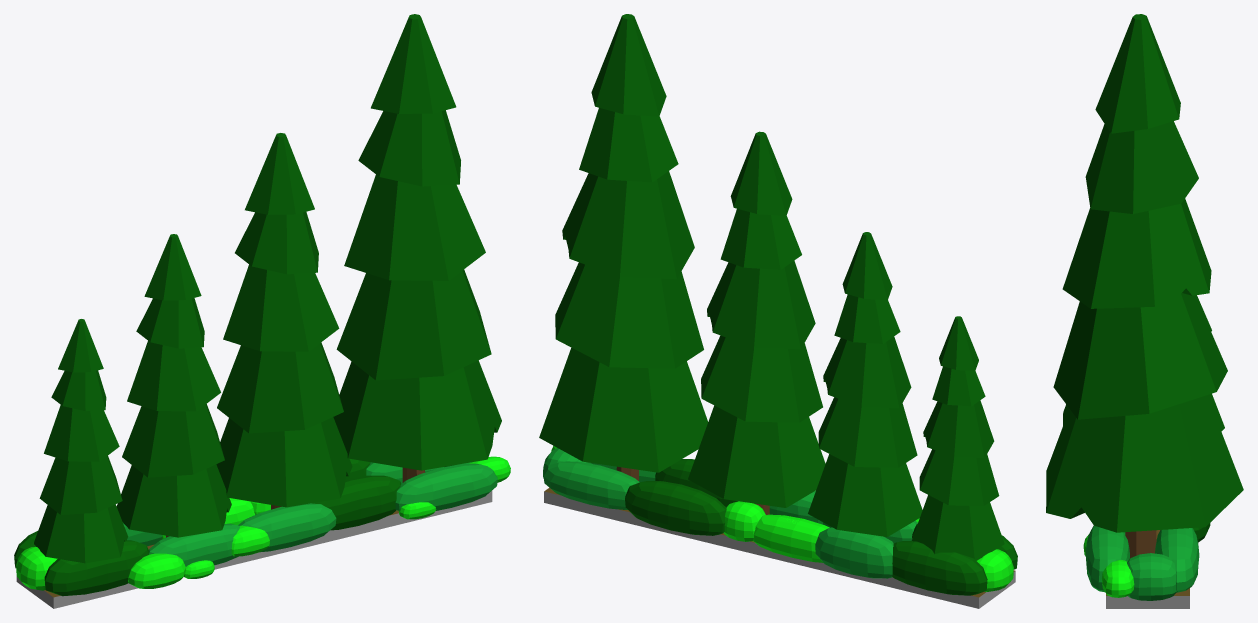
The model's file is GrassAndTree.glb.
The picture shows the model from 3 angles, left to right: view 1: azimuth 30°, elevation 25°; view 2: azimuth 150°, elevation 25°; view 3: azimuth 270°, elevation 25°; orthographic projection. The views are drawn at different scales.
Visible parts, largest first — view 1: Grass-Tree4; view 2: Grass-Tree4; view 3: Grass-Tree4.
Boxes of the visible parts, x1,y1,x2,y2 form: Grass-Tree4: [14, 14, 510, 608]; Grass-Tree4: [539, 14, 1017, 608]; Grass-Tree4: [1046, 14, 1243, 608].
Bounding box in the file's own units: 189 × 186 × 59.78.
